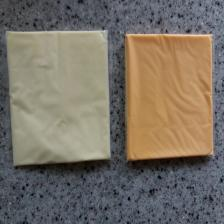cheese: (6, 29, 111, 167), (125, 34, 214, 160)
